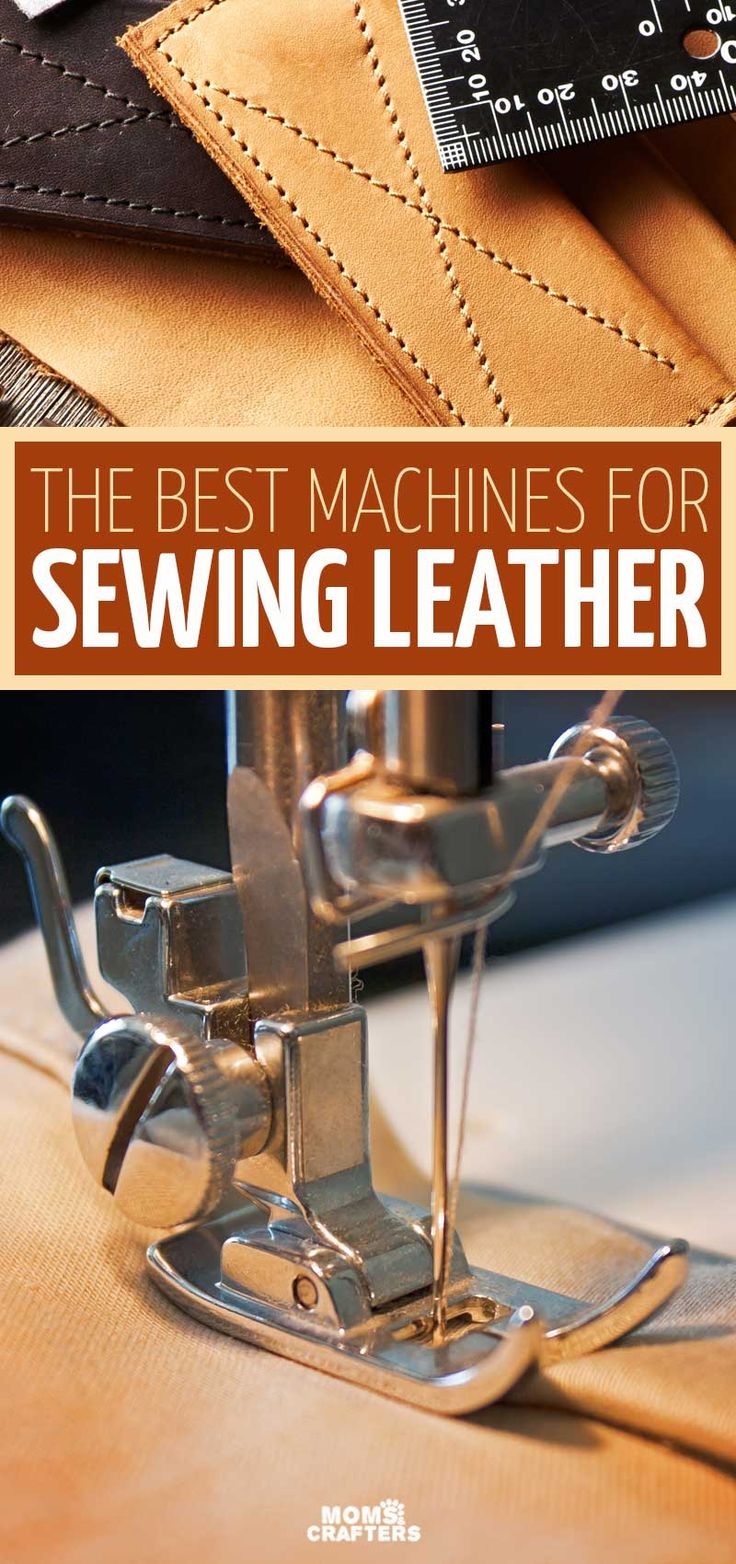cuero: (1, 1, 736, 429)
